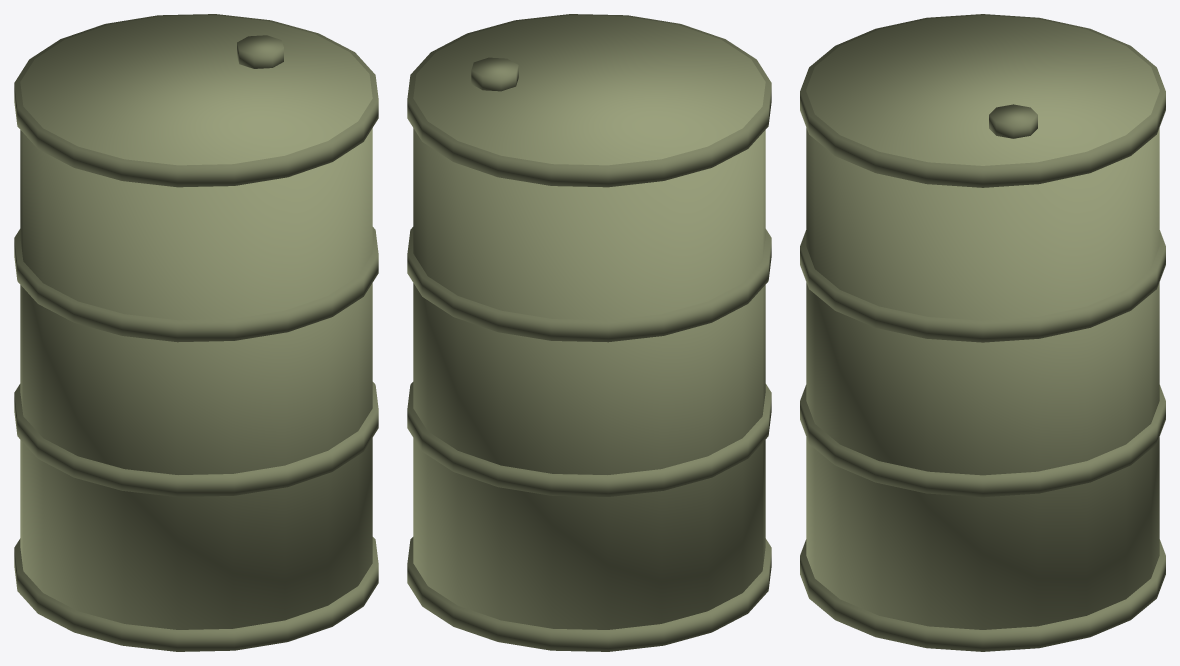
Rendered from oil_drum_olive.glb.
The picture shows the model from 3 angles, left to right: view 1: azimuth 30°, elevation 25°; view 2: azimuth 150°, elevation 25°; view 3: azimuth 270°, elevation 25°; orthographic projection.
Parts seen in each view (by area): view 1: Drum; view 2: Drum; view 3: Drum.
Boxes of the visible parts, box(x1,y1,x2,y2) form: Drum: box(14, 14, 378, 651); Drum: box(407, 14, 771, 651); Drum: box(800, 14, 1165, 651).
Bounding box in the file's own units: 0.6 × 0.905 × 0.6.
